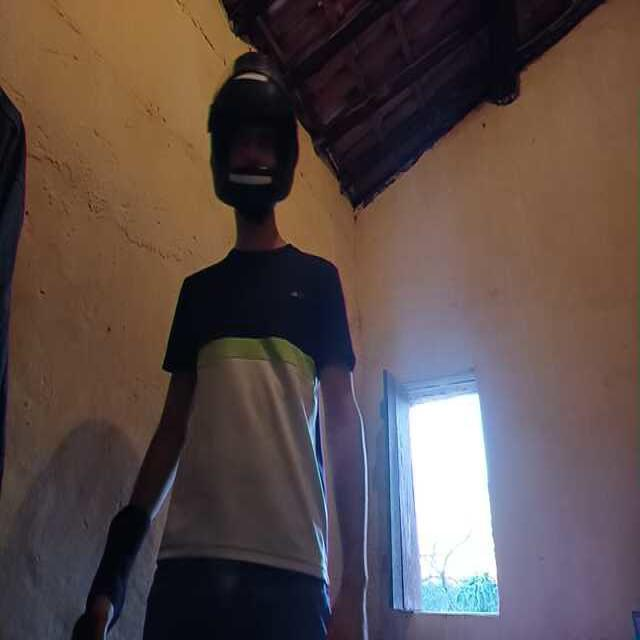capacete: (193, 69, 305, 199)
pessoa: (120, 41, 371, 640)
